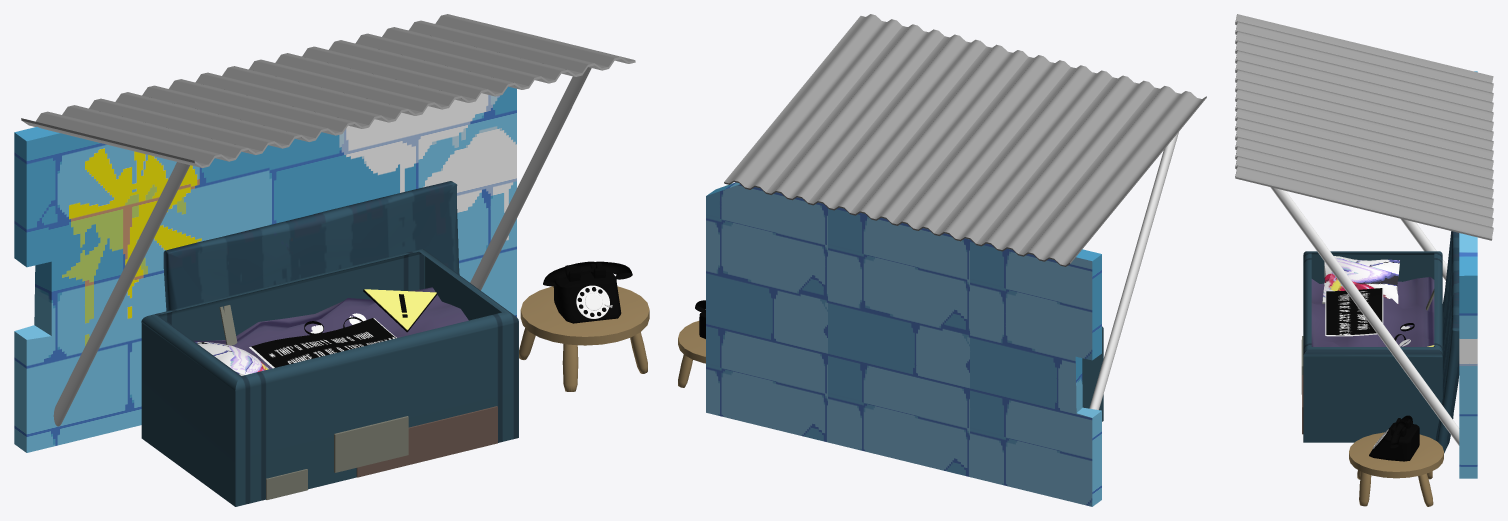
Rendered from Spamton_Shop.fbx.
3 renders of one model, left to right at view 1: azimuth 30°, elevation 25°; view 2: azimuth 150°, elevation 25°; view 3: azimuth 270°, elevation 25°, orthographic. The views are drawn at different scales.
Parts seen in each view (by area): view 1: polySurface64, polySurface51, polySurface52, polySurface59, polySurface58, polySurface56, polySurface57, polySurface60, polySurface62, polySurface61, polySurface63, polySurface67 (+11 smaller); view 2: polySurface64, polySurface59, polySurface56, polySurface58, polySurface57, polySurface61, polySurface63, polySurface60, polySurface62, polySurface66, polySurface51, polySurface45; view 3: polySurface51, polySurface59, polySurface56, polySurface60, polySurface63, polySurface57, polySurface58, polySurface61, polySurface62, polySurface64, polySurface67, polySurface65 (+8 smaller).
Part boxes in pixels (x1,y1,x2,y2): polySurface64: (14, 86, 516, 452); polySurface51: (141, 249, 518, 506); polySurface52: (163, 181, 459, 311); polySurface59: (21, 105, 262, 167); polySurface58: (195, 66, 422, 128); polySurface56: (408, 14, 635, 76); polySurface57: (249, 53, 475, 115); polySurface60: (142, 79, 368, 141); polySurface62: (355, 27, 582, 89); polySurface61: (302, 40, 528, 102); polySurface63: (89, 92, 315, 154); polySurface67: (193, 287, 468, 369); polySurface64: (706, 182, 1101, 506); polySurface59: (1018, 86, 1206, 266); polySurface56: (724, 14, 911, 194); polySurface58: (892, 55, 1075, 235); polySurface57: (850, 45, 1038, 225); polySurface61: (808, 34, 993, 214); polySurface63: (976, 75, 1163, 254); polySurface60: (934, 65, 1121, 245); polySurface62: (766, 24, 951, 204); polySurface66: (1089, 132, 1178, 409); polySurface51: (1082, 326, 1103, 421); polySurface45: (678, 321, 705, 363); polySurface51: (1303, 251, 1442, 442); polySurface59: (1235, 14, 1493, 102); polySurface56: (1235, 148, 1493, 240); polySurface60: (1235, 52, 1493, 140); polySurface63: (1235, 33, 1493, 121); polySurface57: (1235, 91, 1493, 178); polySurface58: (1235, 71, 1493, 159); polySurface61: (1235, 110, 1493, 198); polySurface62: (1235, 129, 1493, 217); polySurface64: (1459, 71, 1477, 478); polySurface67: (1311, 277, 1434, 346); polySurface65: (1270, 187, 1459, 445).
Size of what is drawn, in the model's own units: 5.39 by 3.65 by 2.85.
21 materials, 9 textured.
